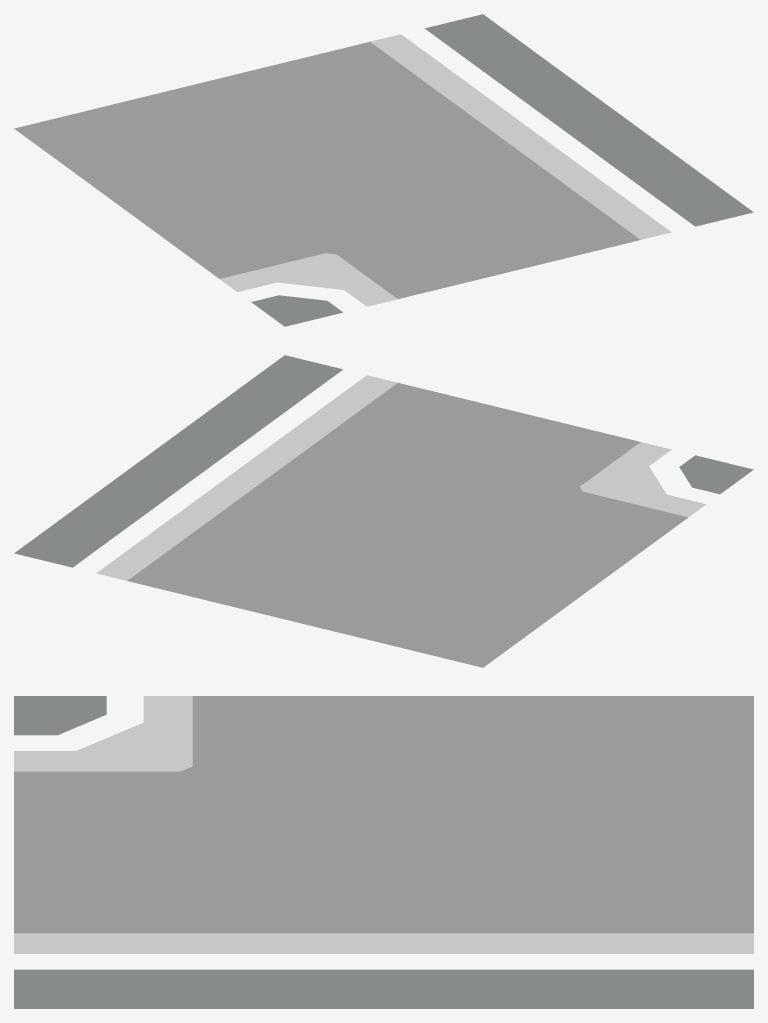
The model's file is Ceiling_type_A_026_002.glb.
The picture shows the model from 3 angles, top to bottom: view 1: azimuth 30°, elevation 25°; view 2: azimuth 150°, elevation 25°; view 3: azimuth 270°, elevation 25°; orthographic projection. The views are drawn at different scales.
Parts seen in each view (by area): view 1: Ceiling_type_A_026.002; view 2: Ceiling_type_A_026.002; view 3: Ceiling_type_A_026.002.
Part boxes in pixels (<box>): Ceiling_type_A_026.002: <box>14,14,753,326</box>; Ceiling_type_A_026.002: <box>14,355,753,667</box>; Ceiling_type_A_026.002: <box>14,696,753,1008</box>.
Bounding box in the file's own units: 4 × 0.0618 × 4.
2 materials, 2 textured.
